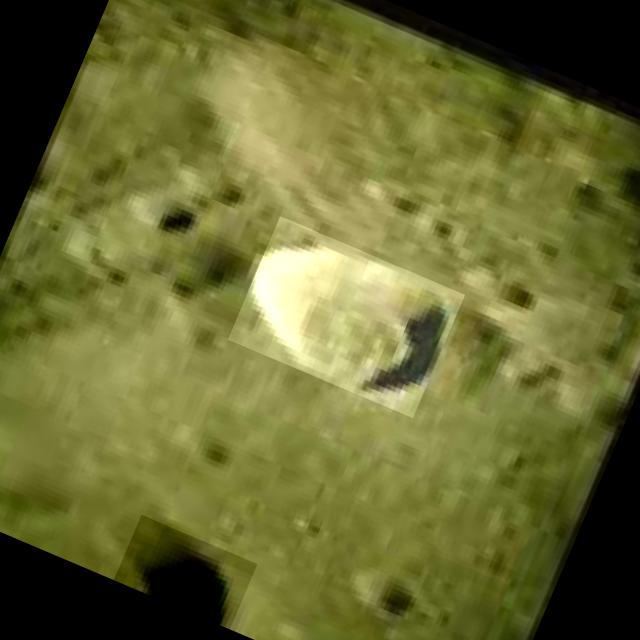crater: (227, 216, 465, 418), (113, 514, 257, 629)
